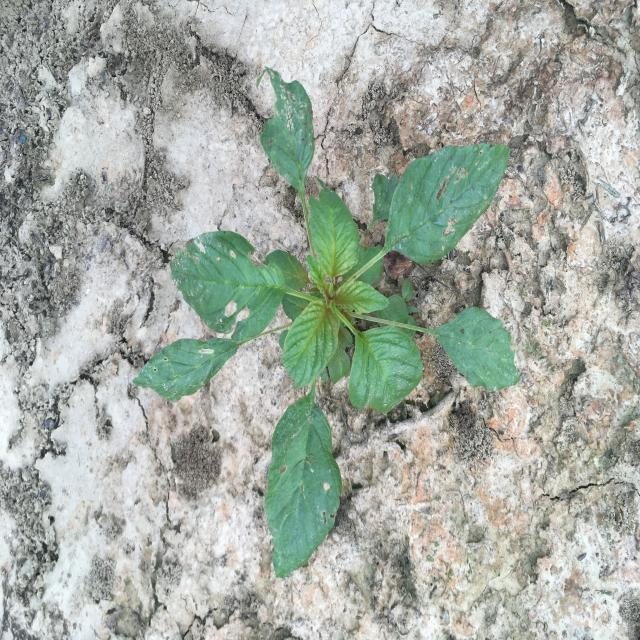PalmerAmaranth: (132, 66, 519, 580)
